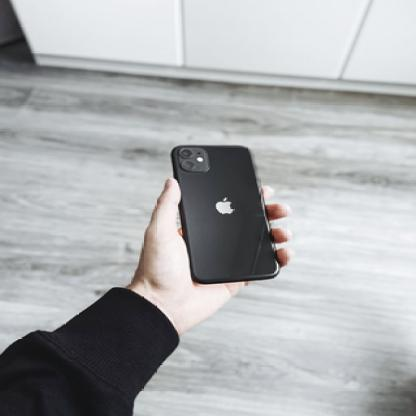cell-phone: (169, 141, 282, 292)
